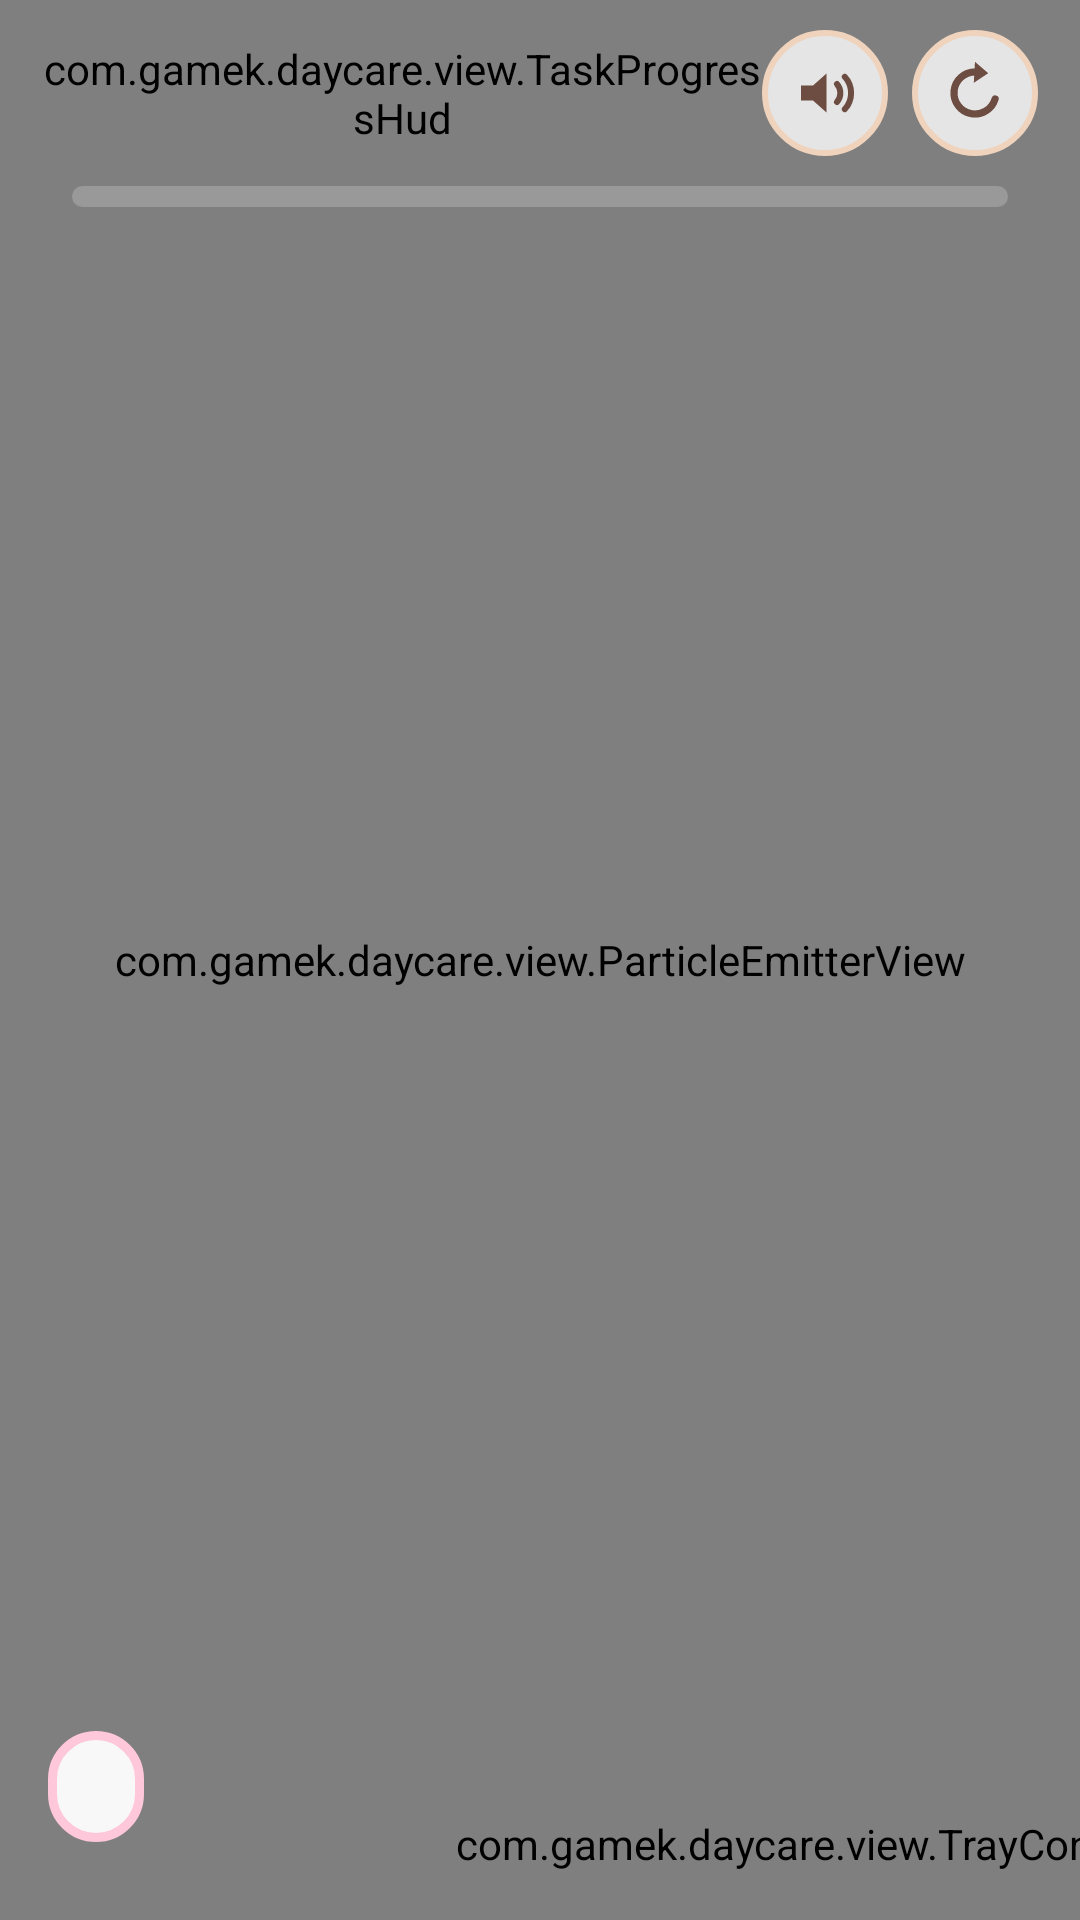

Icons on this 1080x1920 Android screen, each with the point to tap as (x=x, y=y):
Start over: (x=975, y=93)
Toggle sound: (x=825, y=93)
